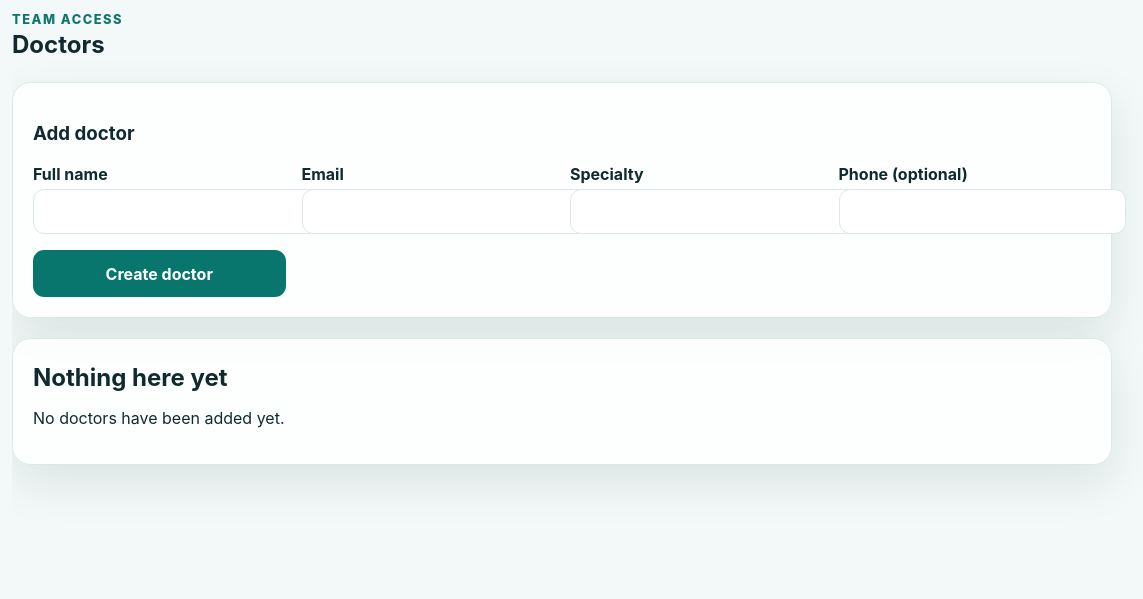
Test: doctor creation uses the FastAPI abstraction, prevents duplicates, and refreshes the list
The width and height of the screenshot is (1143, 599).
Expected: the text "No doctors have been added yet." is shown, [33, 408, 284, 428]
Type "Dr. Rowan" into the field labelled "Full name" at (177, 212), box [33, 189, 320, 234]
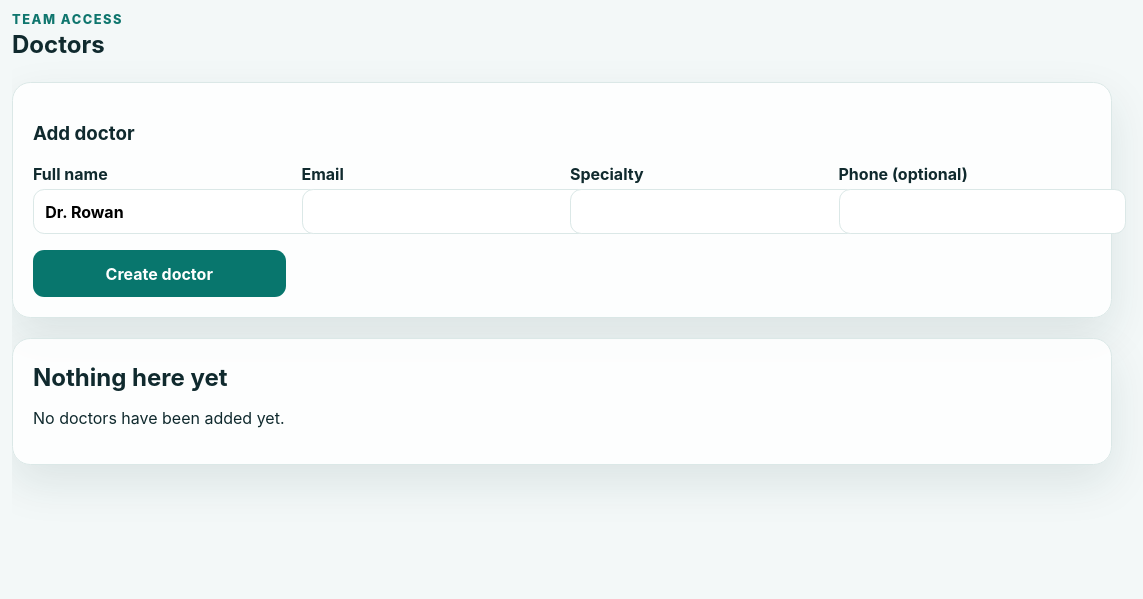
Type "rowan@example.test" into the field labelled "Email" at (445, 212), box [302, 189, 589, 234]
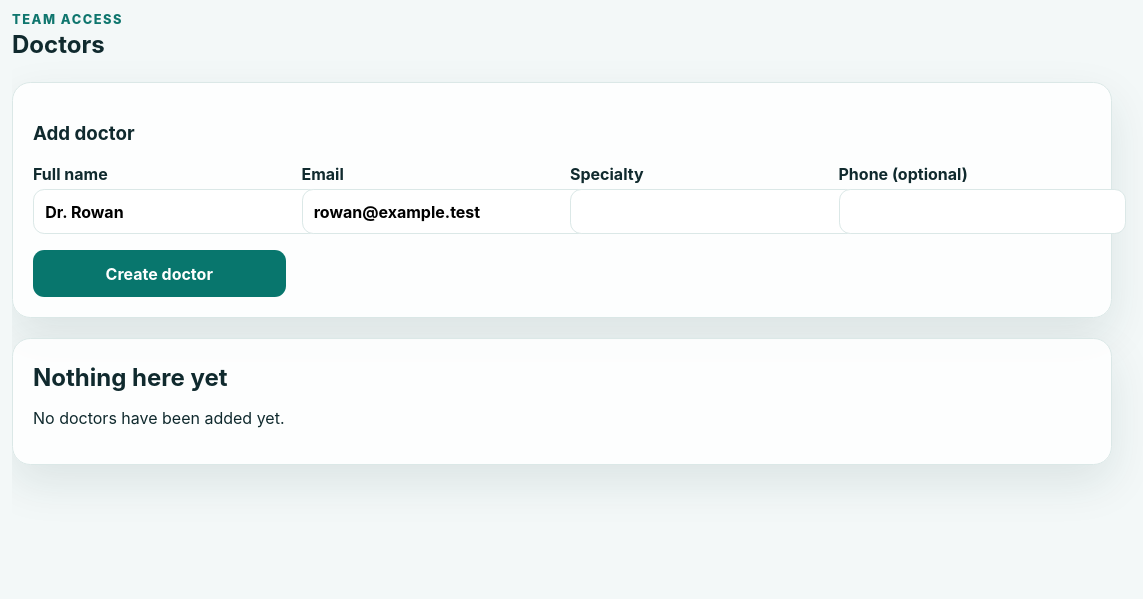
Type "Cardiology" into the field labelled "Specialty" at (714, 212), box [570, 189, 857, 234]
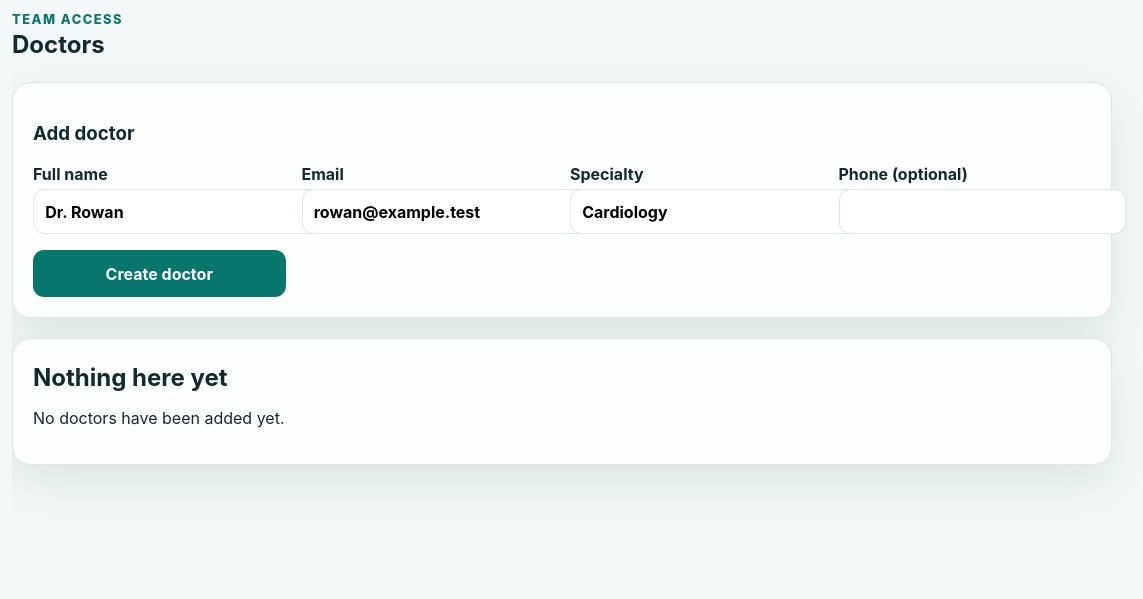
Click the button "Create doctor" at (159, 274), box [33, 250, 286, 297]
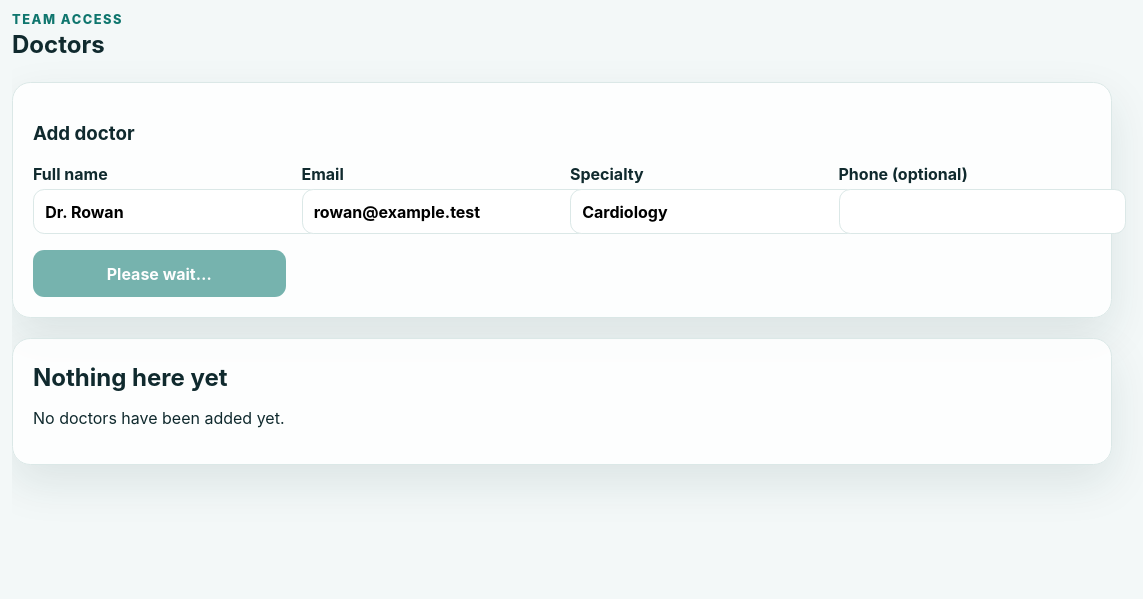
Result: the button "Please wait…" is disabled
Click the button "Please wait…" at (159, 274), box [33, 250, 286, 297]
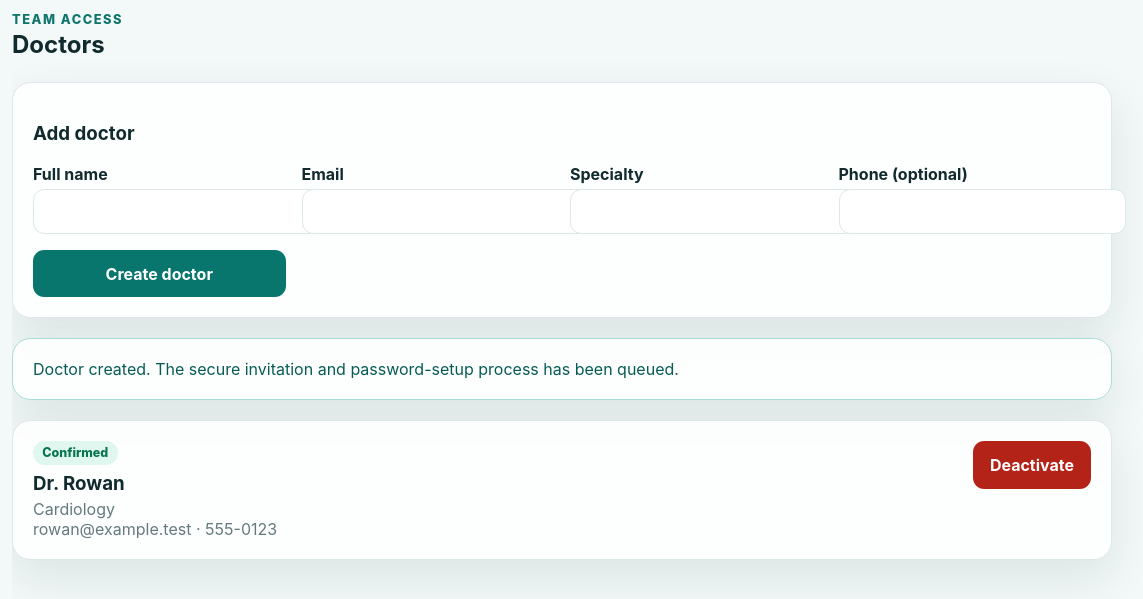
Result: the text "secure invitation and password-setup process has been queued" is shown at [33, 359, 679, 379]
Result: the heading "Dr. Rowan" is shown at [33, 472, 125, 495]
